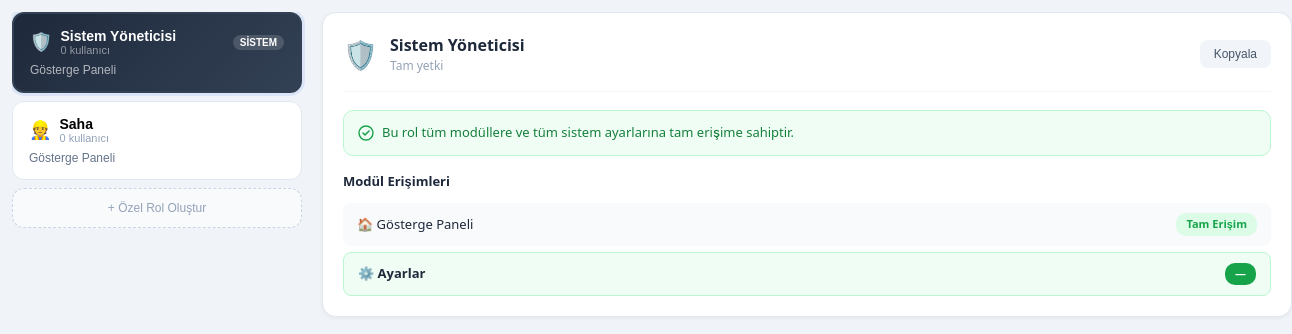
Test: RolesScreen › farklı bir rol kartına tıklayınca detay panelinde o rolün adı görünür
Expected: the text "Modül Erişimleri" is shown, top-left (343, 172), bottom-right (450, 190)
Step 1. Click the text "Saha" → {"x": 76, "y": 124}, box top-left (60, 116), bottom-right (93, 132)
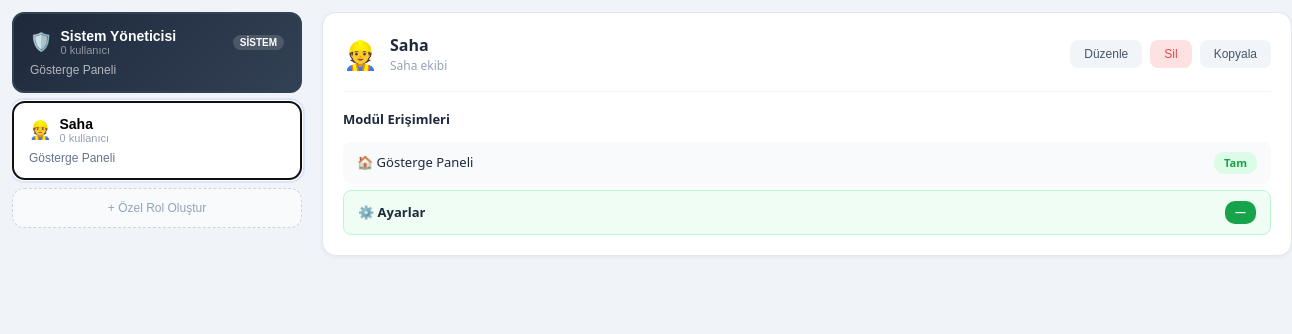
Expected: the element with class "role-detail__head" is shown, top-left (343, 33), bottom-right (1271, 92)
Result: the 1st text "Saha" is shown at top-left (390, 34), bottom-right (429, 56)
